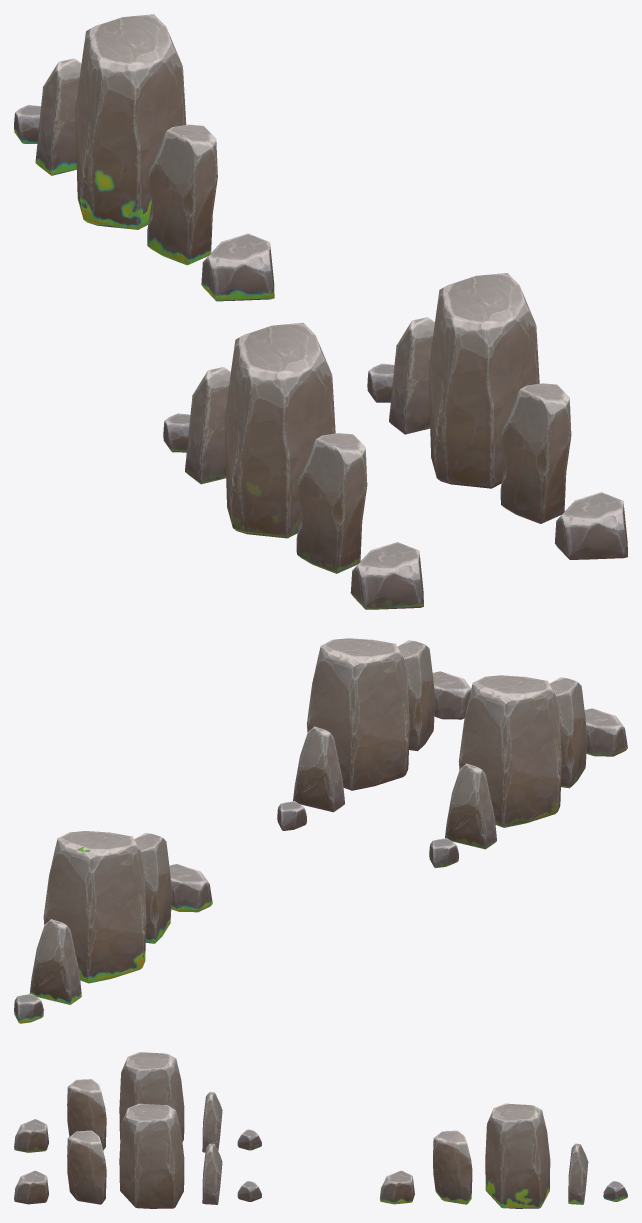
File: stone_2.glb
The picture shows the model from 3 angles, top to bottom: view 1: azimuth 30°, elevation 25°; view 2: azimuth 150°, elevation 25°; view 3: azimuth 270°, elevation 25°; orthographic projection. The views are drawn at different scales.
Parts seen in each view (by area): view 1: Stone_5_Low, Stone_5_Low.002, Stone_5_Low.001, Stone_4_Low, Stone_4_Low.002, Stone_4_Low.001, Stone_2_Low, Stone_2_Low.001, Stone_2_Low.002, Stone_3_Low, Stone_3_Low.001, Stone_3_Low.002 (+3 smaller); view 2: Stone_5_Low.002, Stone_5_Low.001, Stone_5_Low, Stone_3_Low, Stone_3_Low.002, Stone_3_Low.001, Stone_4_Low.001, Stone_4_Low, Stone_4_Low.002, Stone_2_Low.002, Stone_2_Low, Stone_2_Low.001 (+3 smaller); view 3: Stone_5_Low.001, Stone_5_Low, Stone_5_Low.002, Stone_4_Low.001, Stone_4_Low, Stone_4_Low.002, Stone_3_Low, Stone_3_Low.001, Stone_2_Low.001, Stone_2_Low.002, Stone_2_Low, Stone_3_Low.002 (+3 smaller).
Boxes of the visible parts, x1,y1,x2,y2 form: Stone_5_Low: (75, 14, 186, 229); Stone_5_Low.002: (224, 322, 335, 538); Stone_5_Low.001: (428, 273, 539, 488); Stone_4_Low: (147, 124, 217, 265); Stone_4_Low.002: (296, 433, 367, 573); Stone_4_Low.001: (500, 383, 571, 523); Stone_2_Low: (201, 233, 274, 301); Stone_2_Low.001: (555, 492, 627, 559); Stone_2_Low.002: (350, 542, 423, 609); Stone_3_Low: (35, 58, 81, 175); Stone_3_Low.001: (389, 317, 434, 434); Stone_3_Low.002: (185, 367, 230, 484); Stone_5_Low.002: (458, 675, 561, 827); Stone_5_Low.001: (307, 638, 409, 790); Stone_5_Low: (43, 831, 146, 983); Stone_3_Low: (29, 919, 81, 1004); Stone_3_Low.002: (445, 763, 496, 849); Stone_3_Low.001: (293, 726, 344, 812); Stone_4_Low.001: (398, 640, 435, 751); Stone_4_Low: (134, 833, 171, 943); Stone_4_Low.002: (549, 677, 587, 788); Stone_2_Low.002: (584, 708, 627, 756); Stone_2_Low: (169, 864, 212, 912); Stone_2_Low.001: (432, 671, 471, 719); Stone_5_Low.001: (119, 1103, 184, 1208); Stone_5_Low: (485, 1103, 550, 1208); Stone_5_Low.002: (119, 1052, 184, 1141); Stone_4_Low.001: (67, 1130, 106, 1204); Stone_4_Low: (433, 1130, 472, 1204); Stone_4_Low.002: (67, 1079, 106, 1150); Stone_3_Low: (568, 1143, 588, 1204); Stone_3_Low.001: (202, 1143, 222, 1204); Stone_2_Low.001: (14, 1170, 48, 1204); Stone_2_Low.002: (14, 1119, 48, 1152); Stone_2_Low: (380, 1170, 414, 1204); Stone_3_Low.002: (202, 1092, 222, 1152).
Bounding box in the file's own units: 304 × 166 × 1007.
3 materials, 3 textured.
